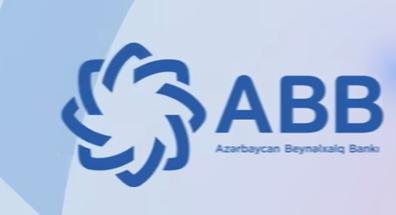ABB: (57, 39, 208, 188)
